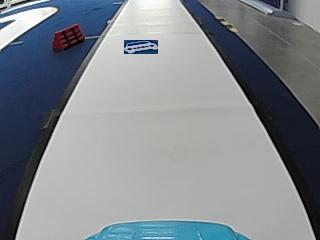bomb: (52, 21, 84, 49)
